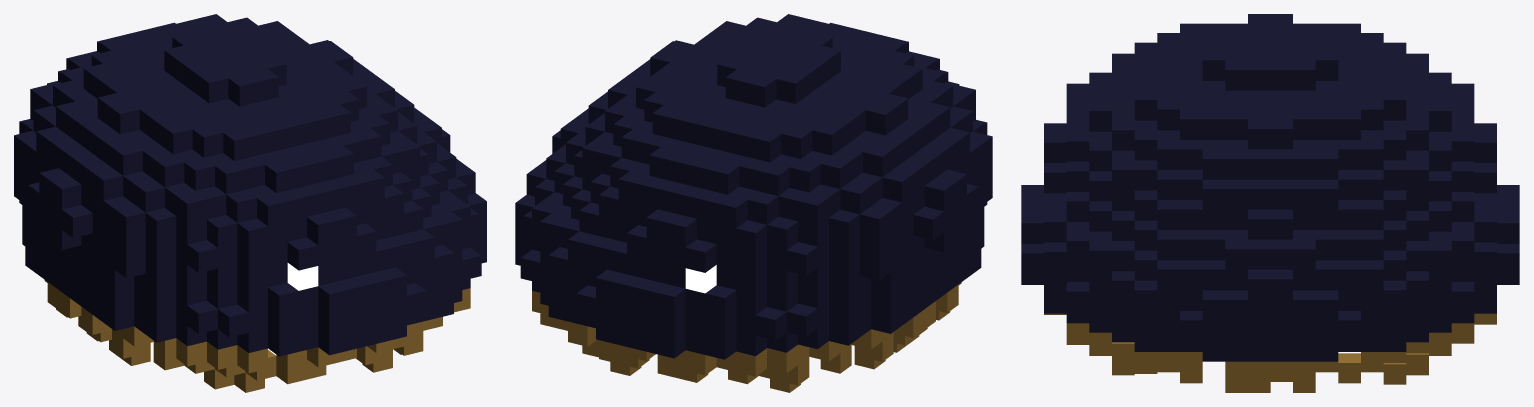
File: mystic_rare_shoulder_L.glb
The picture shows the model from 3 angles, left to right: view 1: azimuth 30°, elevation 25°; view 2: azimuth 150°, elevation 25°; view 3: azimuth 270°, elevation 25°; orthographic projection.
Visible parts, largest first — view 1: mystic_rare_shoulder_L; view 2: mystic_rare_shoulder_L; view 3: mystic_rare_shoulder_L.
Part boxes in pixels (x1,y1,x2,y2): mystic_rare_shoulder_L: (14, 14, 486, 392); mystic_rare_shoulder_L: (515, 14, 992, 392); mystic_rare_shoulder_L: (1021, 14, 1519, 392).
Size of the model in its own units: 0.24 by 0.156 by 0.264.
